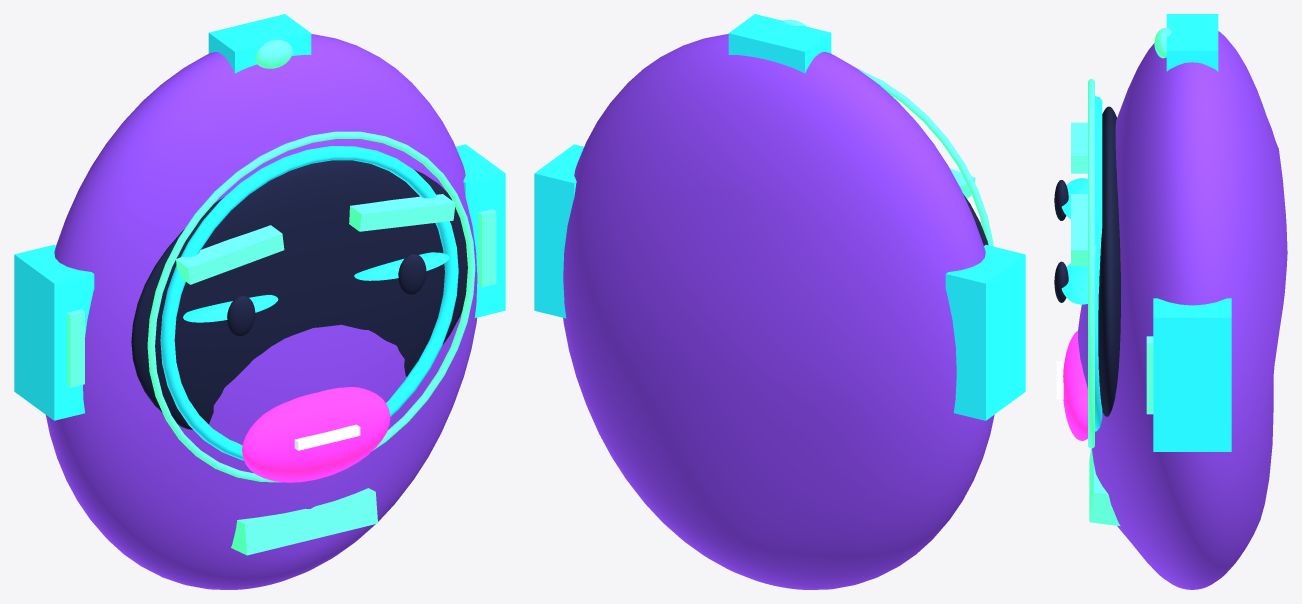
3 renders of one model, left to right at view 1: azimuth 30°, elevation 25°; view 2: azimuth 150°, elevation 25°; view 3: azimuth 270°, elevation 25°, orthographic. The views are drawn at different scales.
Visible parts, largest first — view 1: FaceHead_Blendshape, Cyan_Visor, Visor_Cyan_Frame, Side_Module_L, Mouth_Blendshape, Visor_Green_Accent, Chin_Green_Armor, Side_Module_R, Cyber_Crest, Brow_Left, Brow_Right, Side_Light_R (+7 smaller); view 2: FaceHead_Blendshape, Side_Module_L, Side_Module_R, Cyber_Crest, Visor_Green_Accent; view 3: FaceHead_Blendshape, Side_Module_R, Cyan_Visor, Cyber_Crest, Visor_Green_Accent, Visor_Cyan_Frame, Mouth_Blendshape, Brow_Right, Chin_Green_Armor, Brow_Left, Eye_Right_Blendshape, Side_Light_R (+4 smaller).
Boxes of the visible parts, x1,y1,x2,y2 form: FaceHead_Blendshape: (46,34,477,589); Cyan_Visor: (131,160,467,429); Visor_Cyan_Frame: (160,146,458,460); Side_Module_L: (14,244,94,420); Mouth_Blendshape: (242,387,390,482); Visor_Green_Accent: (147,131,475,482); Chin_Green_Armor: (231,488,377,555); Side_Module_R: (456,144,505,317); Cyber_Crest: (208,14,311,73); Brow_Left: (176,225,284,284); Brow_Right: (349,194,455,231); Side_Light_R: (478,209,496,287); FaceHead_Blendshape: (563,34,994,589); Side_Module_L: (945,245,1025,420); Side_Module_R: (534,144,583,318); Cyber_Crest: (728,14,831,73); Visor_Green_Accent: (856,68,993,246); FaceHead_Blendshape: (1078,31,1287,589); Side_Module_R: (1153,298,1231,451); Cyan_Visor: (1098,106,1120,416); Cyber_Crest: (1166,14,1218,71); Visor_Green_Accent: (1088,79,1094,448); Visor_Cyan_Frame: (1095,96,1102,431); Mouth_Blendshape: (1063,331,1087,440); Brow_Right: (1071,194,1095,266); Chin_Green_Armor: (1089,448,1120,526); Brow_Left: (1071,122,1087,173); Eye_Right_Blendshape: (1061,263,1087,304); Side_Light_R: (1146,336,1153,414).
Bounding box in the file's own units: 2.48 × 2.89 × 1.13.
